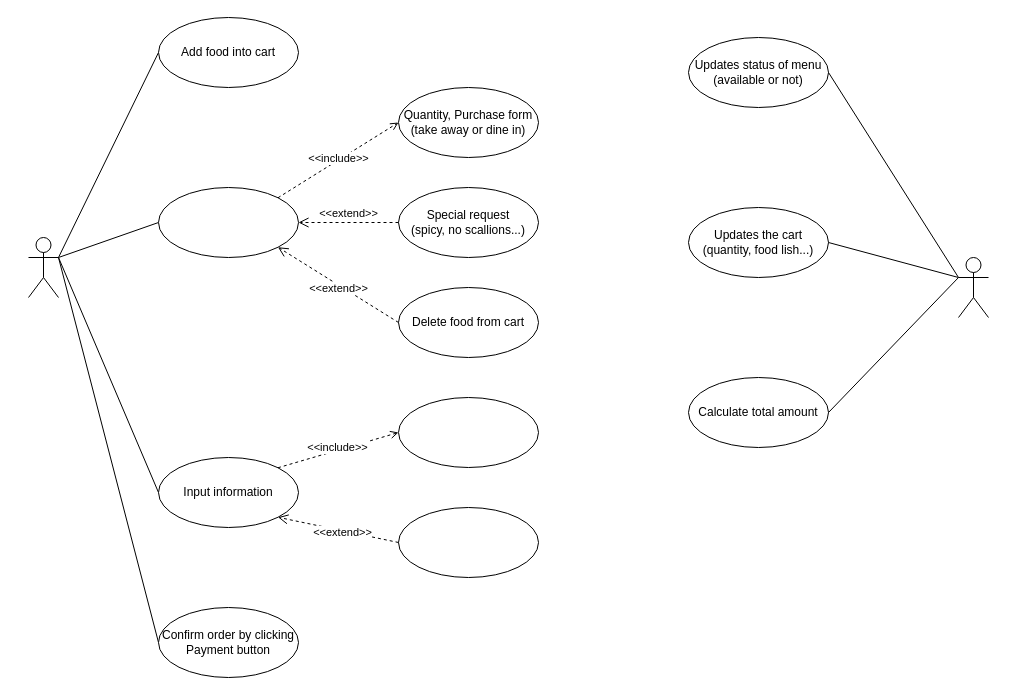
The diagram is 1023 pixels wide and 695 high, and some of its shapes have lost their labels. The centre of each missing label's shape, as x and y in pixels:
"Customer" goes at (x=43, y=267).
"GUI System" goes at (x=973, y=287).
"Input email to receive bill" goes at (x=468, y=542).
"Input name to take food" goes at (x=468, y=432).
"Modification" goes at (x=228, y=222).
